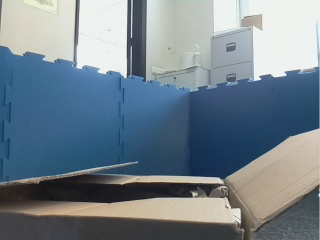caja_rota: (1, 161, 296, 239)
